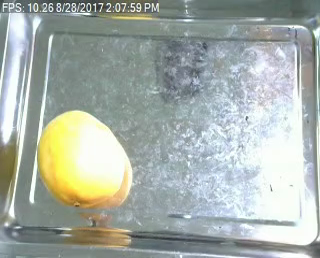Mango: (38, 109, 124, 207)
